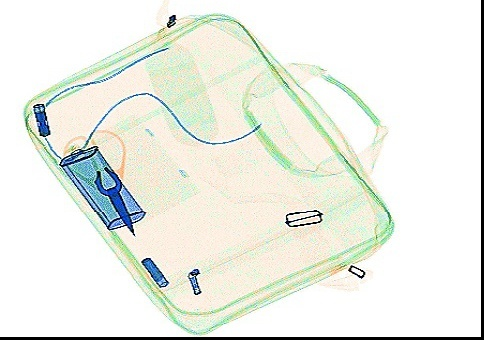scissors: (61, 127, 137, 237)
zippooil: (56, 144, 144, 232)
